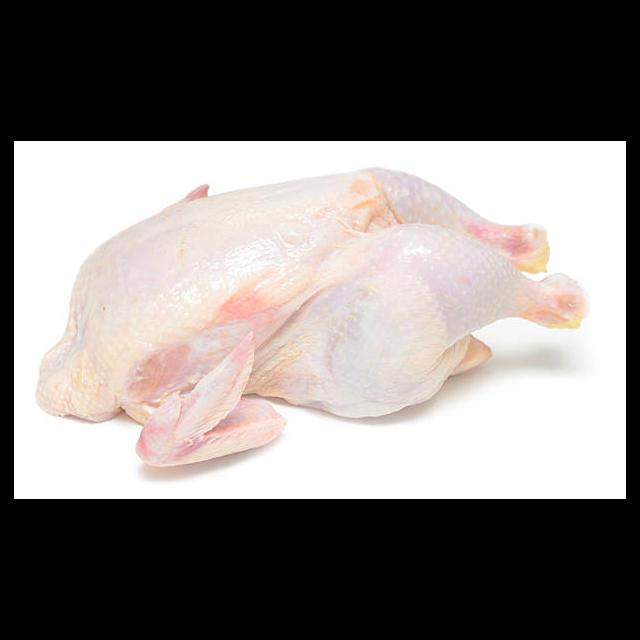chicken: (35, 166, 589, 467)
